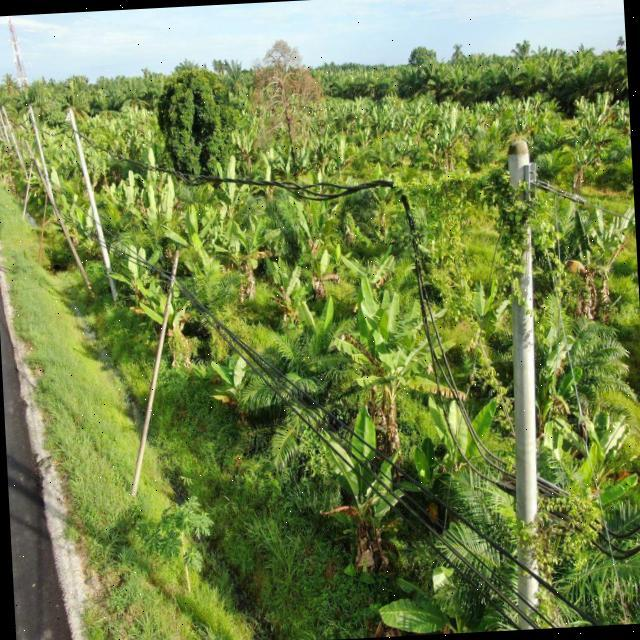critical vegetation: (392, 153, 572, 348)
